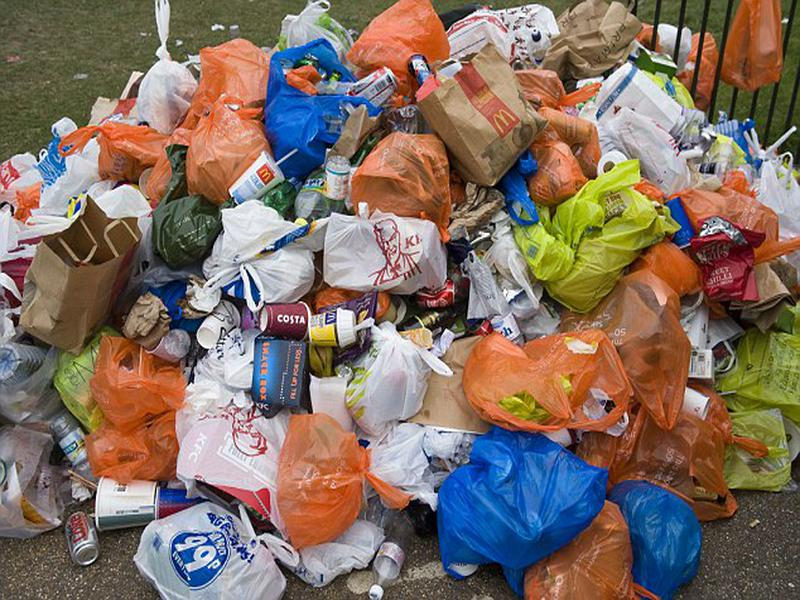bottle: (366, 516, 419, 600)
can: (59, 508, 107, 569)
cup: (88, 471, 167, 537), (194, 300, 240, 350), (307, 307, 358, 350), (258, 299, 311, 338)
paper: (14, 194, 144, 352), (420, 43, 549, 187), (554, 3, 647, 73)
plastic: (428, 426, 610, 595), (513, 159, 681, 317), (277, 406, 419, 548), (464, 327, 637, 440), (130, 501, 300, 600), (203, 202, 322, 310), (341, 317, 457, 427), (176, 377, 289, 489), (170, 96, 287, 203), (338, 1, 466, 95), (610, 483, 711, 600), (321, 209, 452, 295), (347, 132, 461, 217), (86, 333, 189, 424), (698, 405, 800, 496), (55, 123, 173, 199), (685, 211, 771, 311), (722, 328, 800, 420), (185, 35, 277, 109), (150, 176, 221, 267), (78, 417, 179, 475)
